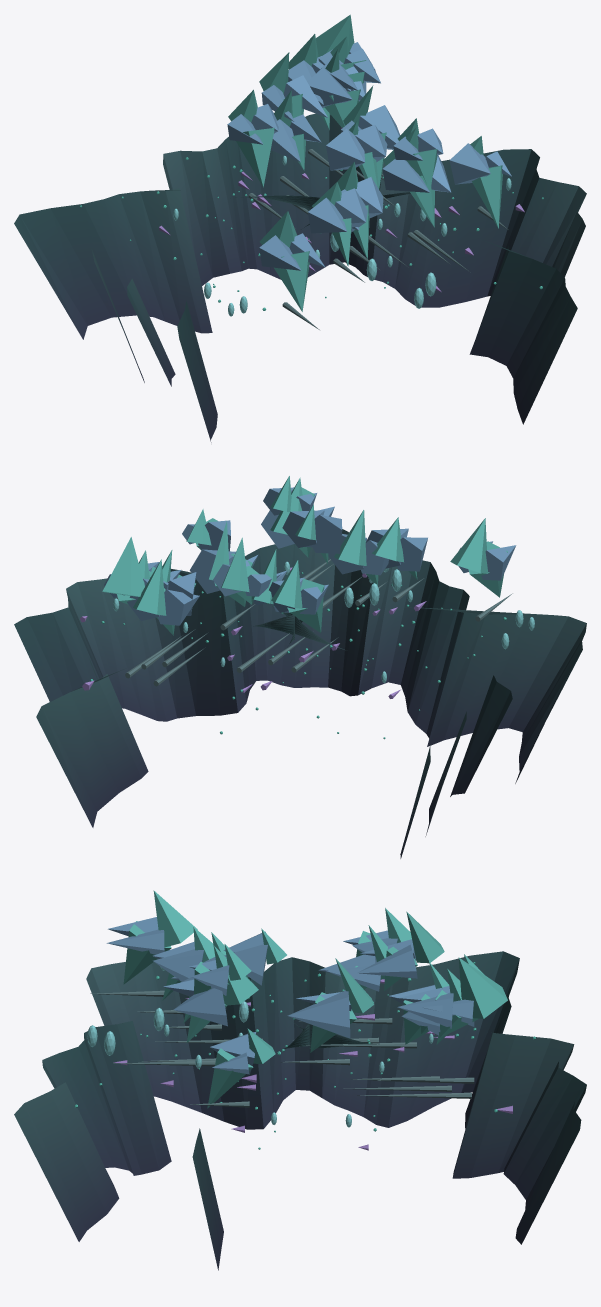
File: hexcore_living_landscape_01.glb
The picture shows the model from 3 angles, top to bottom: view 1: azimuth 30°, elevation 25°; view 2: azimuth 150°, elevation 25°; view 3: azimuth 270°, elevation 25°; orthographic projection. The views are drawn at different scales.
Parts seen in each view (by area): view 1: ELVEN_GROWN_TERRAIN, SCULPTURAL_ELVEN_CANOPIES, BIO_LUMINESCENT_GROUND_LIFE; view 2: ELVEN_GROWN_TERRAIN, SCULPTURAL_ELVEN_CANOPIES, BIO_LUMINESCENT_GROUND_LIFE; view 3: ELVEN_GROWN_TERRAIN, SCULPTURAL_ELVEN_CANOPIES, BIO_LUMINESCENT_GROUND_LIFE.
Boxes of the visible parts, box(x1,y1,x2,y2) form: ELVEN_GROWN_TERRAIN: box(14, 113, 586, 442); SCULPTURAL_ELVEN_CANOPIES: box(227, 14, 511, 329); BIO_LUMINESCENT_GROUND_LIFE: box(80, 127, 543, 316); ELVEN_GROWN_TERRAIN: box(14, 529, 586, 858); SCULPTURAL_ELVEN_CANOPIES: box(102, 476, 516, 686); BIO_LUMINESCENT_GROUND_LIFE: box(80, 561, 534, 739); ELVEN_GROWN_TERRAIN: box(14, 951, 586, 1270); SCULPTURAL_ELVEN_CANOPIES: box(90, 890, 507, 1108); BIO_LUMINESCENT_GROUND_LIFE: box(74, 962, 535, 1150).
Bounding box in the file's own units: 77.7 × 45.4 × 79.87.
